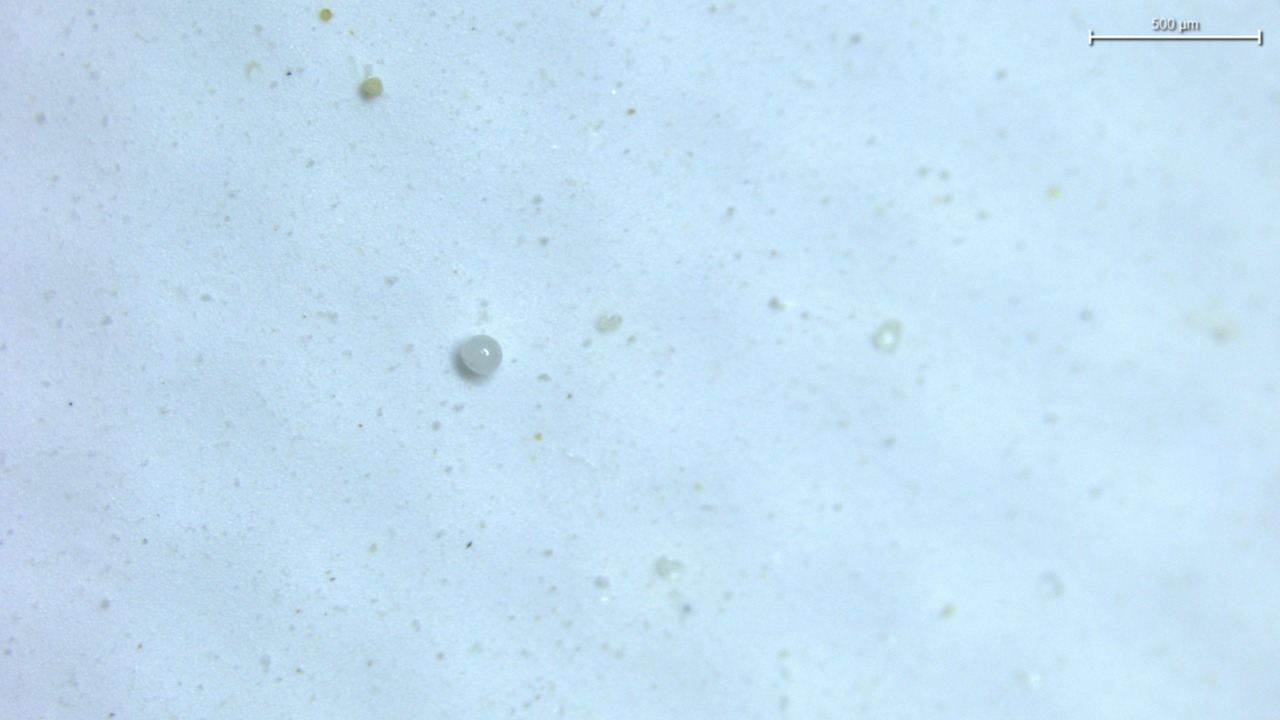microplastic_fragment: (458, 335, 502, 376)
